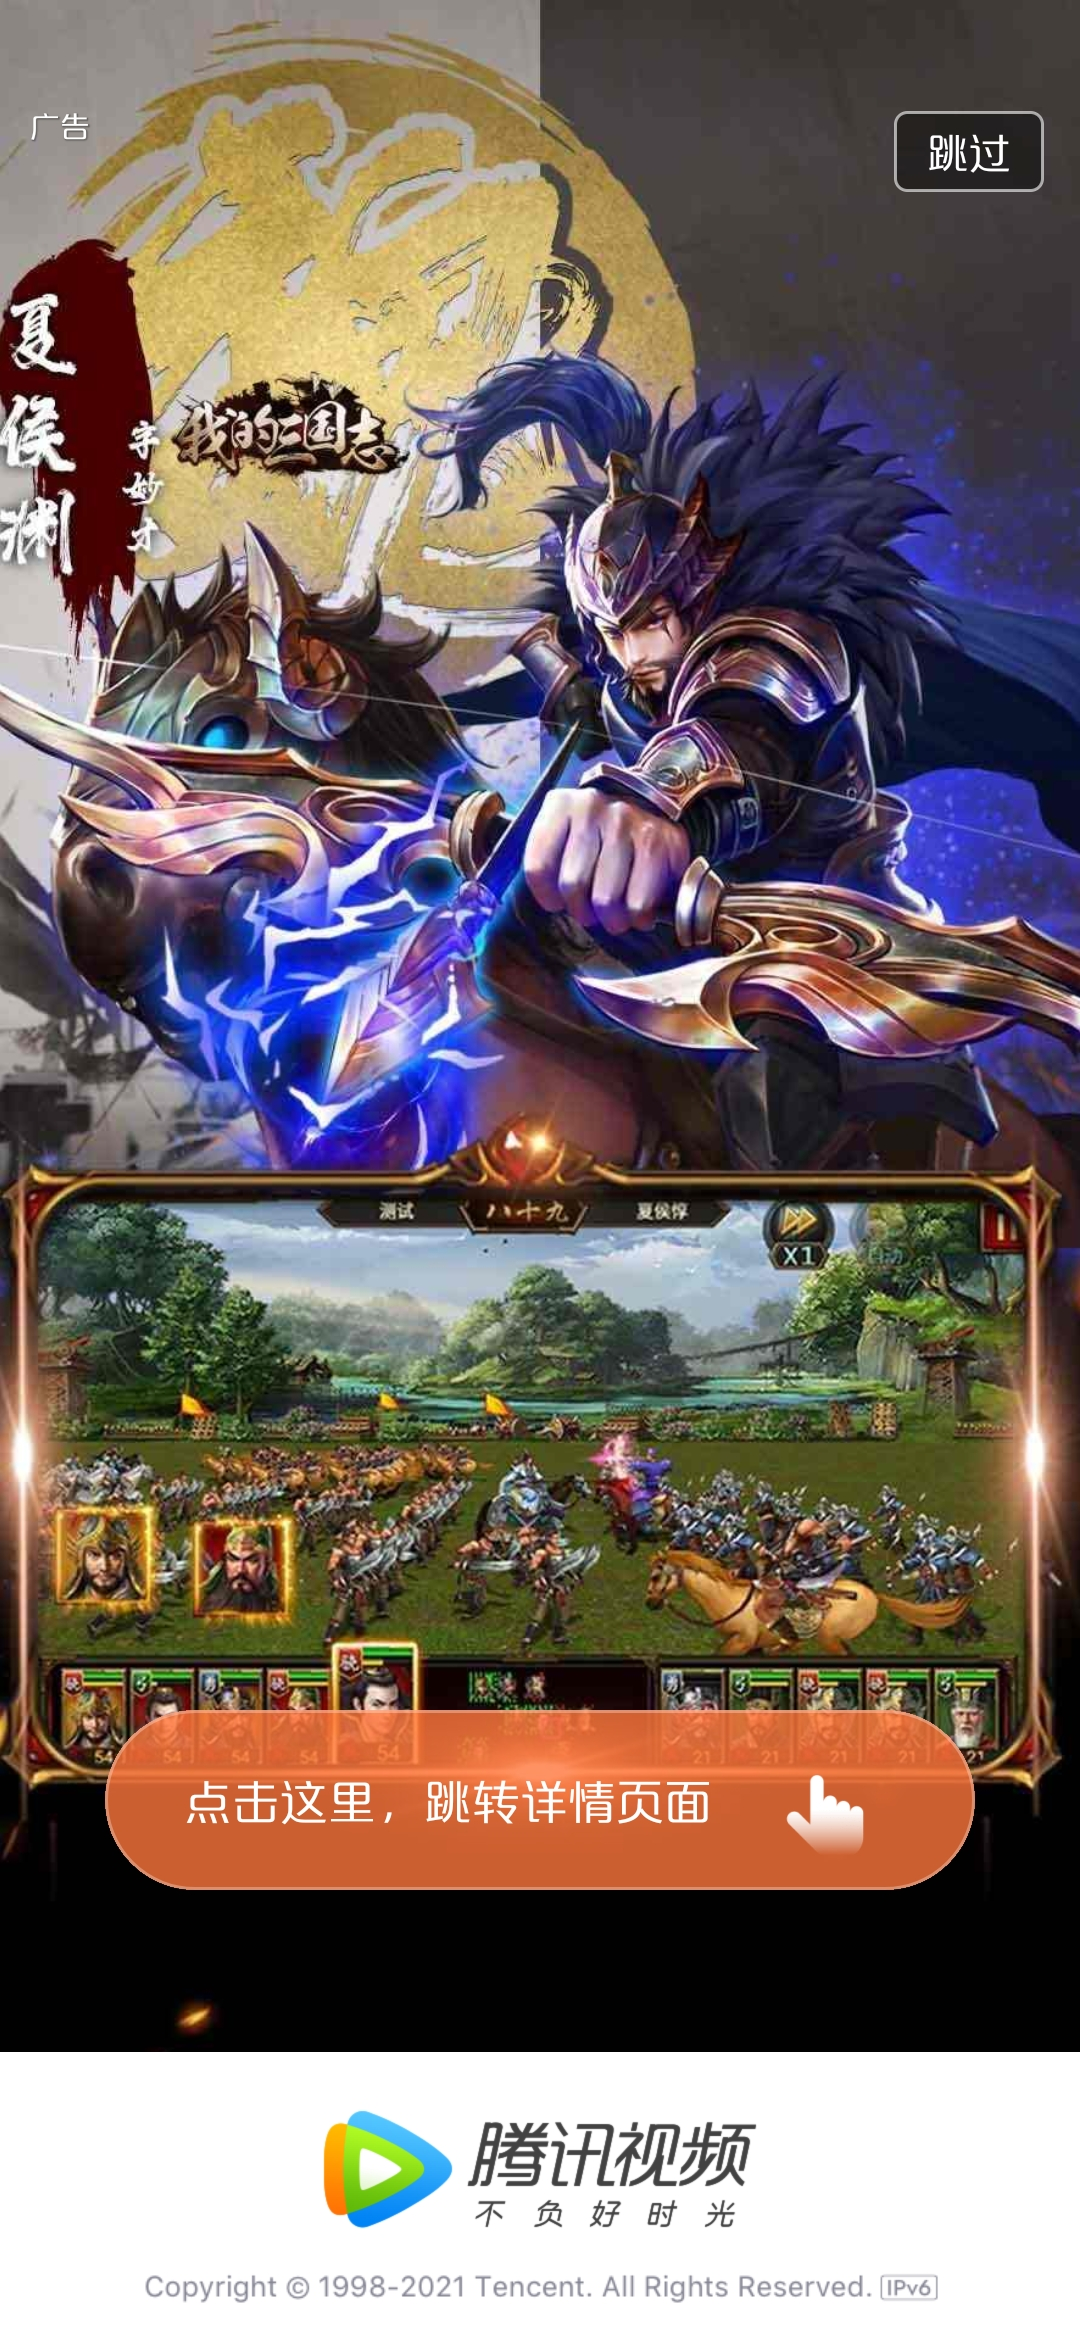skip: (908, 113, 1046, 193)
